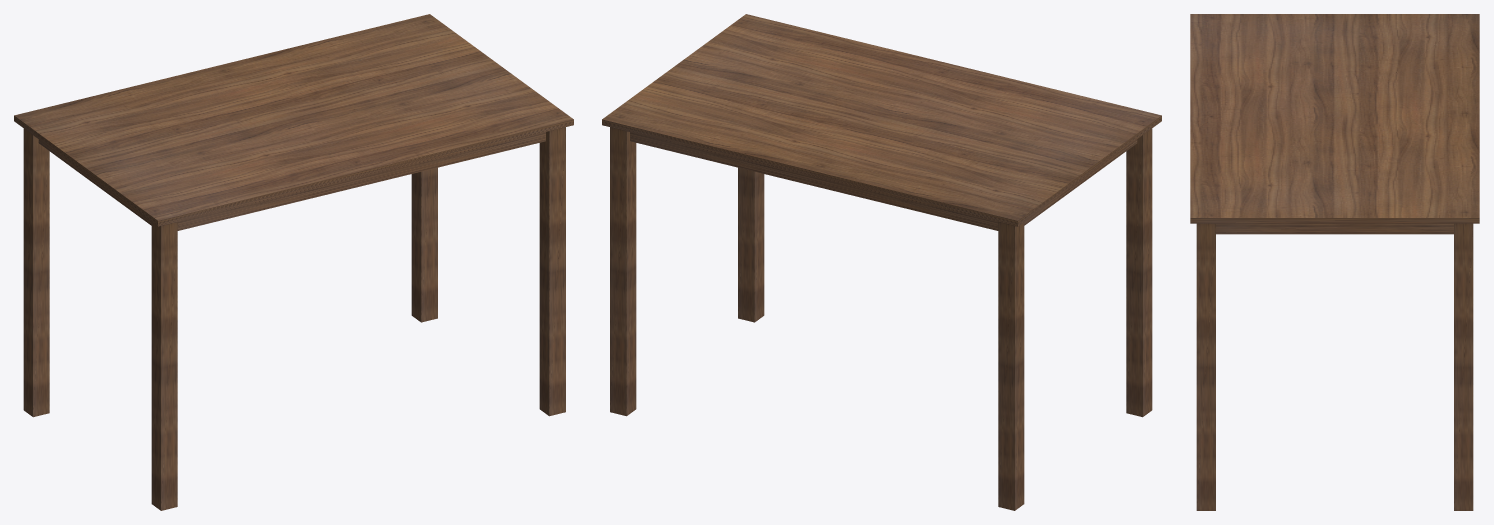
Rendered from TischmitTexture.fbx.
3 renders of one model, left to right at view 1: azimuth 30°, elevation 25°; view 2: azimuth 150°, elevation 25°; view 3: azimuth 270°, elevation 25°, orthographic.
Parts seen in each view (by area): view 1: Box001, Box002, Box003, Box005, Box004, Box006; view 2: Box001, Box005, Box004, Box002, Box003, Box007; view 3: Box001, Box003, Box004, Box009.
Boxes of the visible parts, box(x1,y1,x2,y2) form: Box001: box(14, 14, 573, 226); Box002: box(151, 222, 177, 510); Box003: box(539, 127, 565, 416); Box005: box(23, 128, 49, 417); Box004: box(411, 167, 437, 322); Box006: box(177, 132, 545, 230); Box001: box(602, 14, 1161, 226); Box005: box(998, 222, 1024, 510); Box004: box(610, 127, 636, 416); Box002: box(1126, 128, 1152, 417); Box003: box(738, 167, 764, 322); Box007: box(630, 132, 998, 230); Box001: box(1190, 14, 1479, 223); Box003: box(1196, 223, 1215, 510); Box004: box(1454, 223, 1473, 510); Box009: box(1216, 223, 1453, 234).
Size of the model in its own units: 75 by 50.67 by 45.
1 material, 1 textured.
